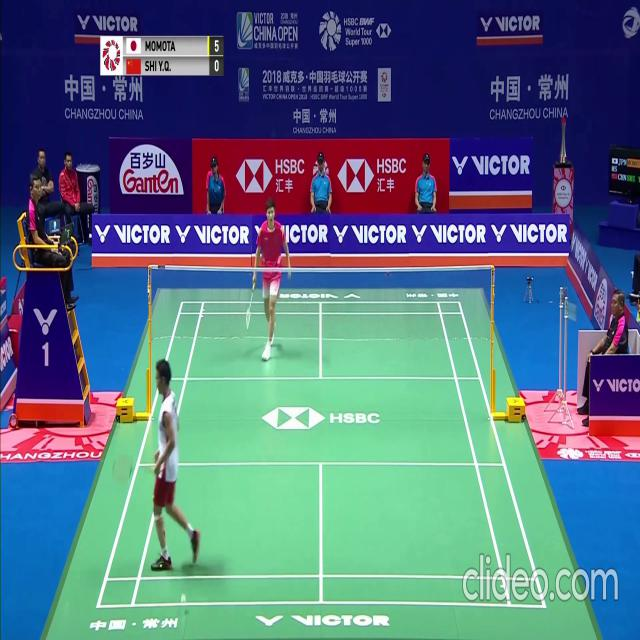Shuttlecock: (181, 595, 185, 602)
